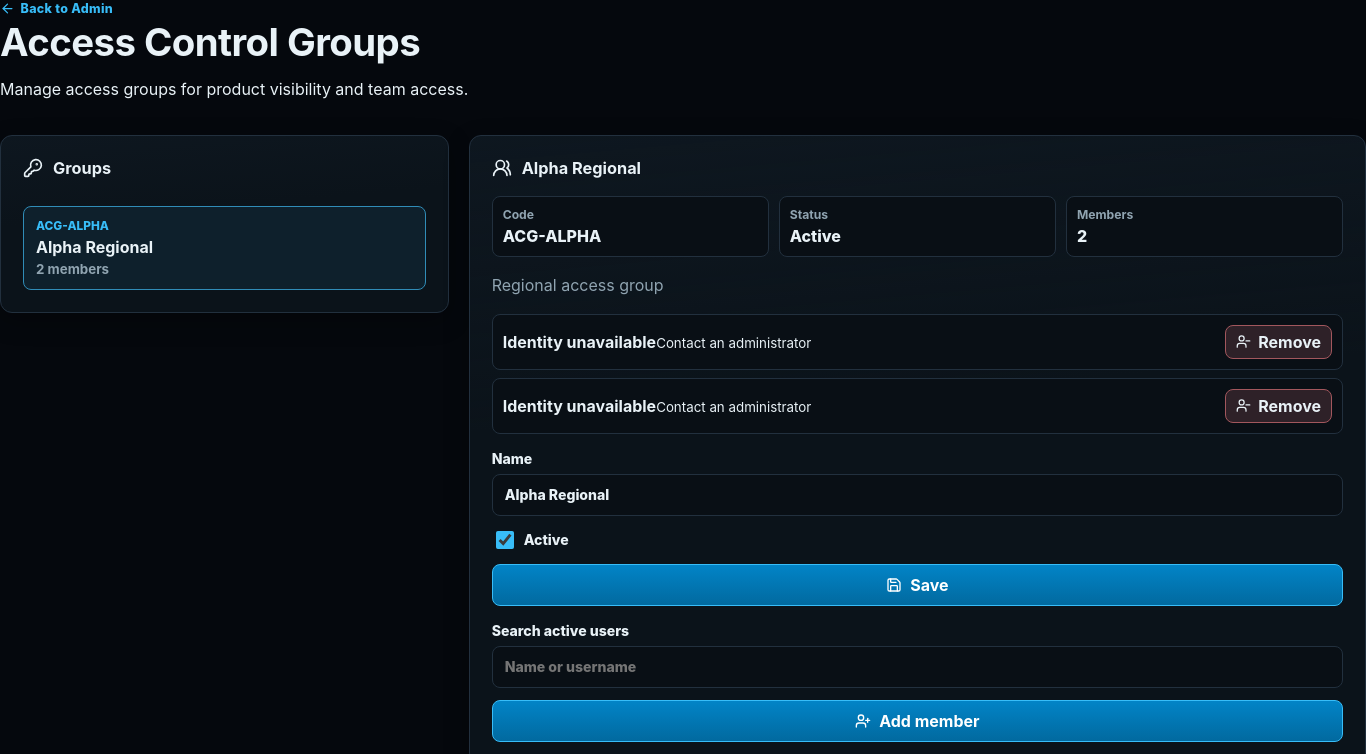
shows an inline error when member removal fails
The image size is (1366, 754).
Click the button with aria-label "Remove user-bravo from Alpha Regional".
click(1279, 406)  # box x1=1225 y1=389 x2=1332 y2=423
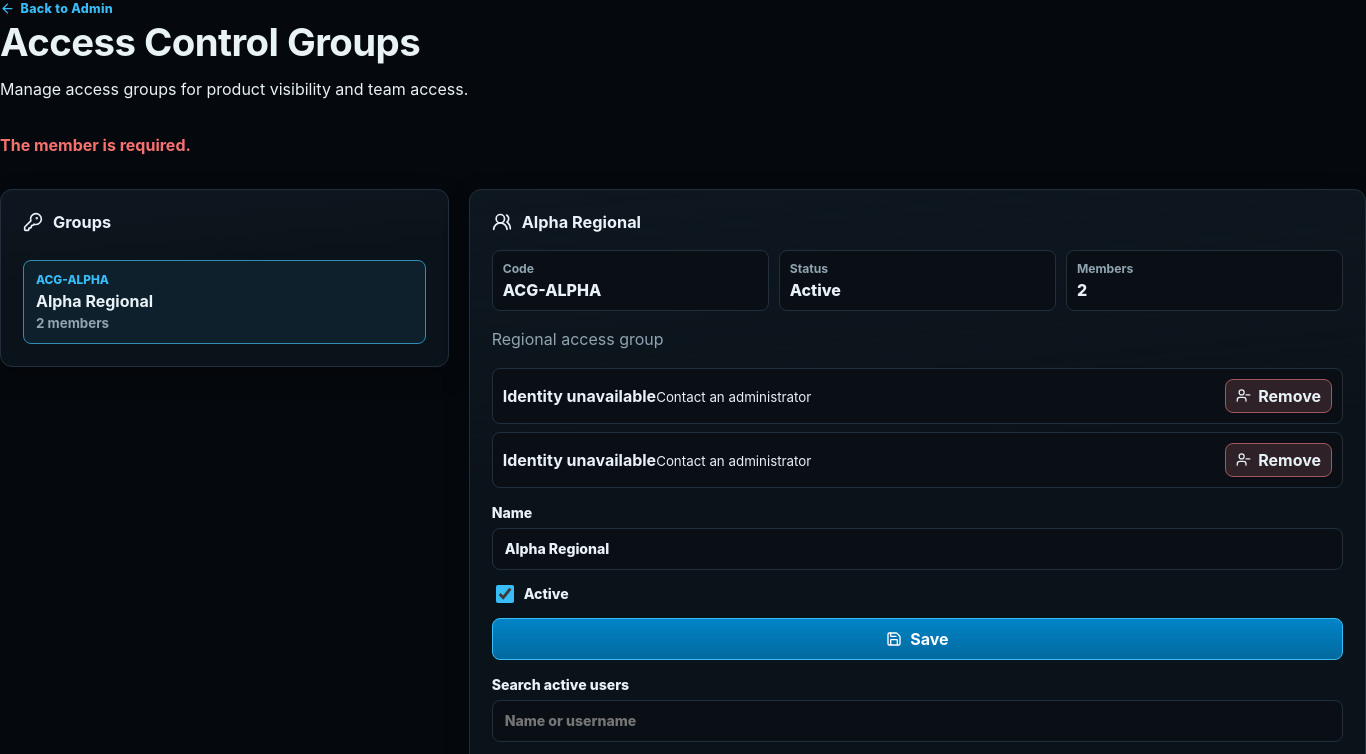
Now the message reads "The member is required.", box x1=0 y1=135 x2=191 y2=155
